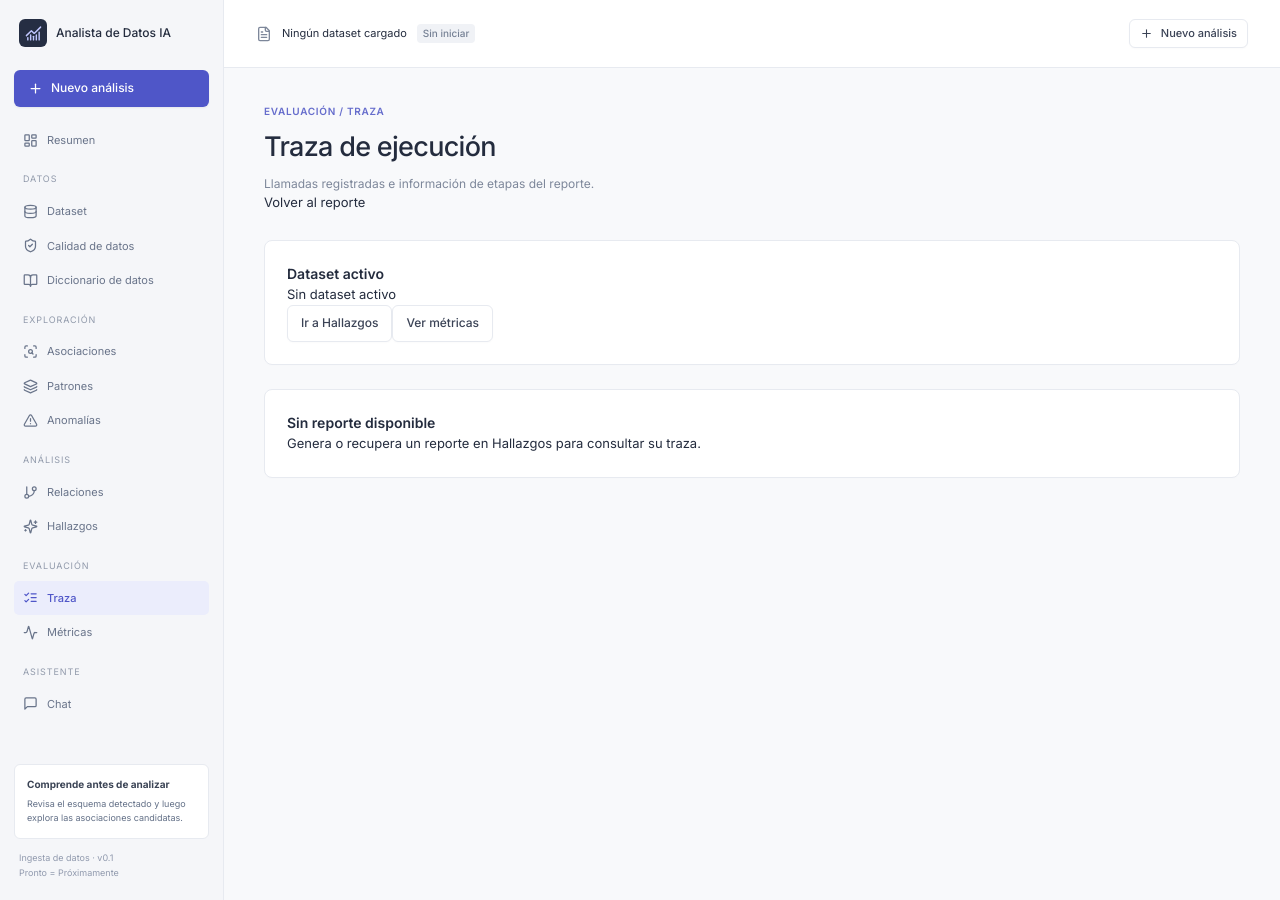
Test: audit plan and event result links remain available with the detailed trace table
The width and height of the screenshot is (1280, 900).
Click the link "Hallazgos": (60, 527) top-left (23, 519), bottom-right (98, 534)
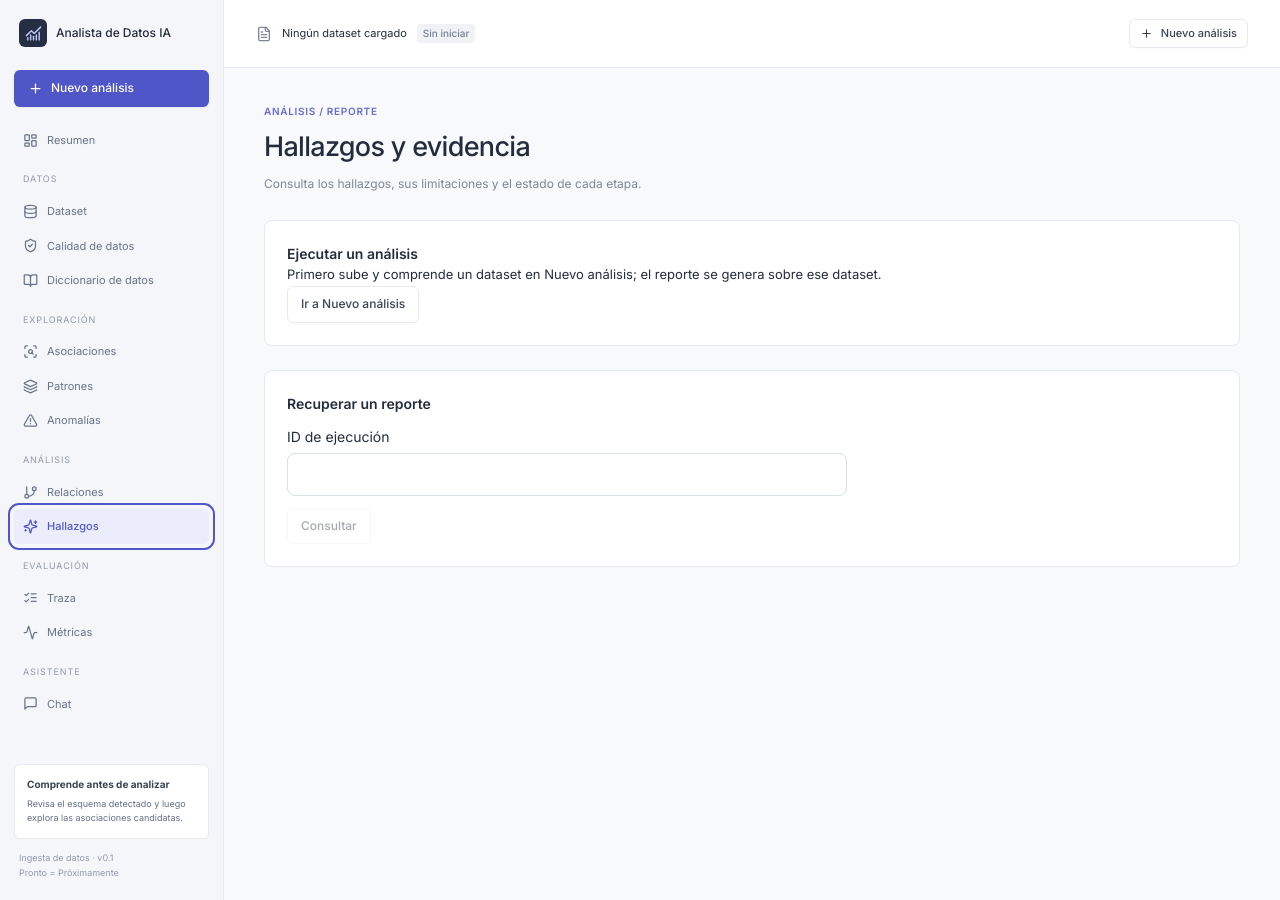
In the field labelled "ID de ejecución": (567, 474) top-left (287, 453), bottom-right (847, 496), type "trace-run"
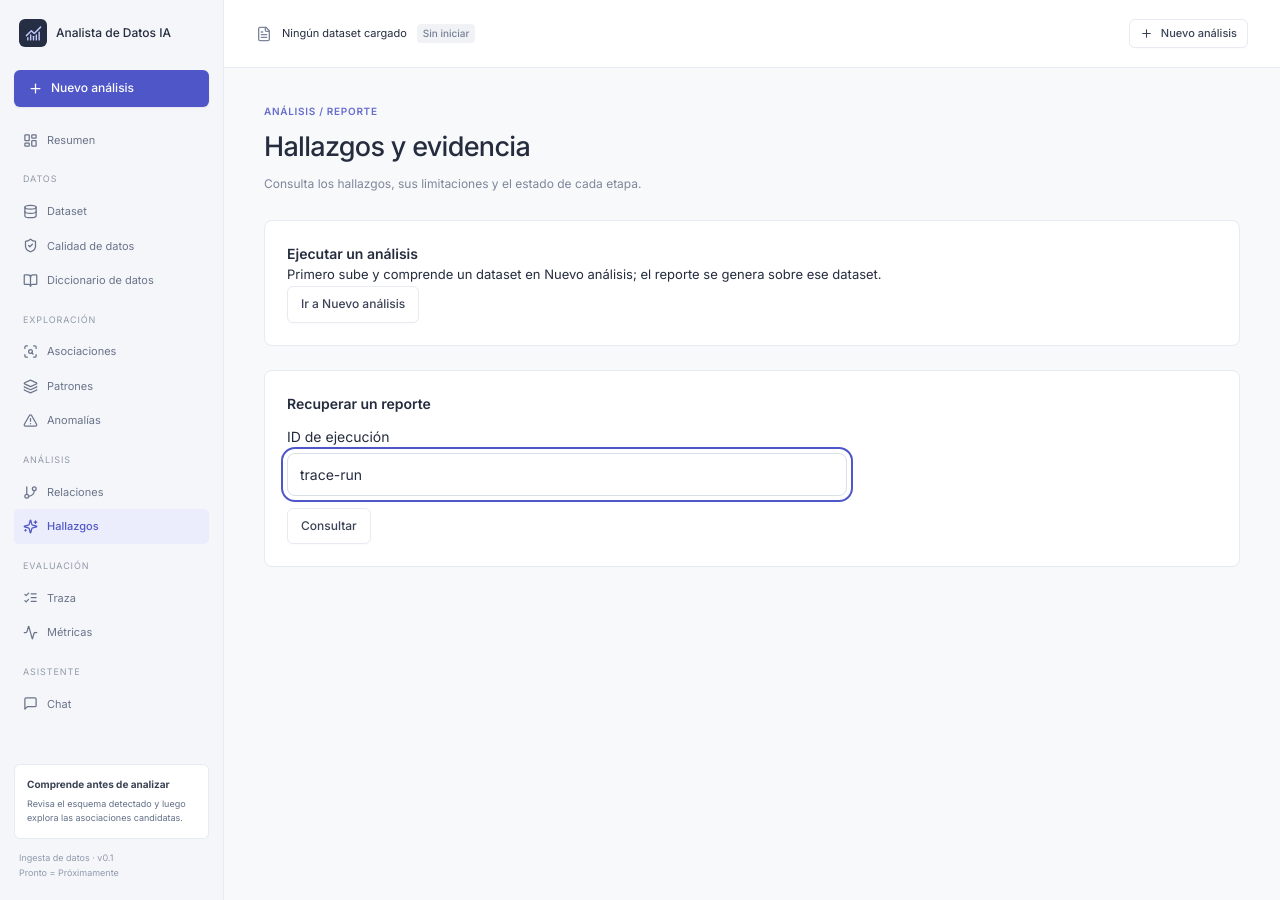
Click the button "Consultar": (329, 526) top-left (287, 508), bottom-right (371, 544)
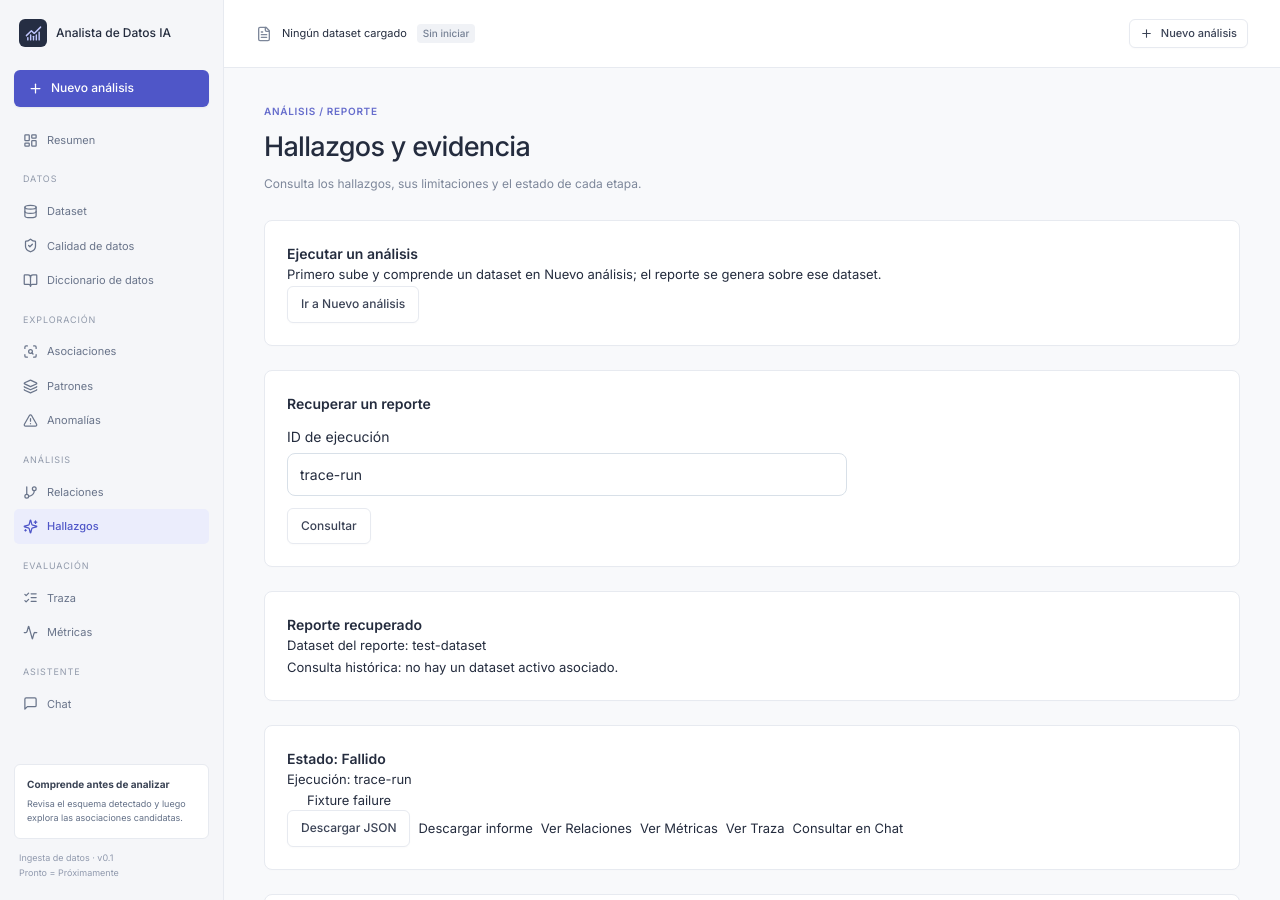
Click the link "Traza": (50, 598) top-left (23, 590), bottom-right (76, 605)
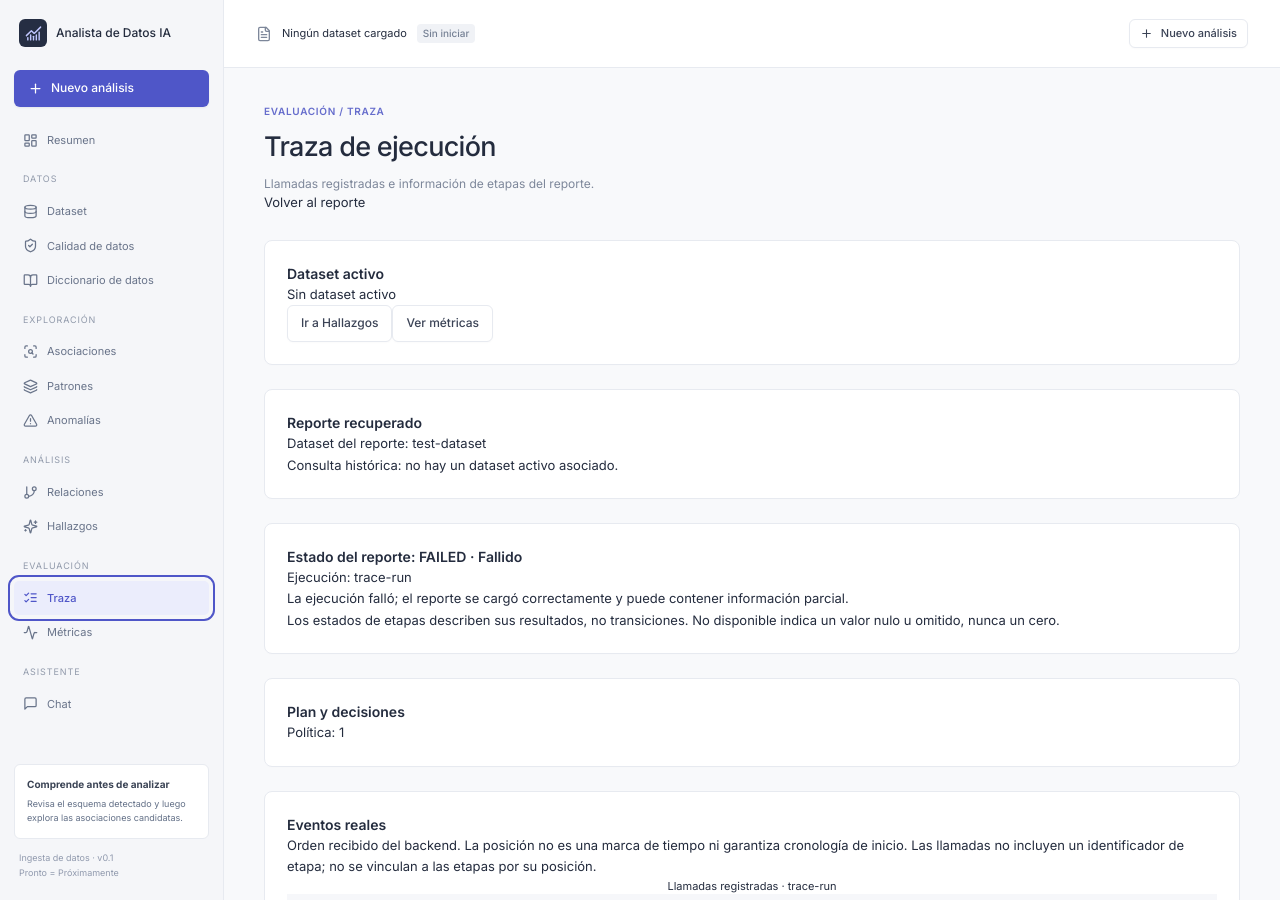
Expected: the heading "Plan y decisiones" is shown, top-left (287, 703), bottom-right (405, 720)
Expected: the heading "Eventos reales" is shown, top-left (287, 816), bottom-right (386, 833)
